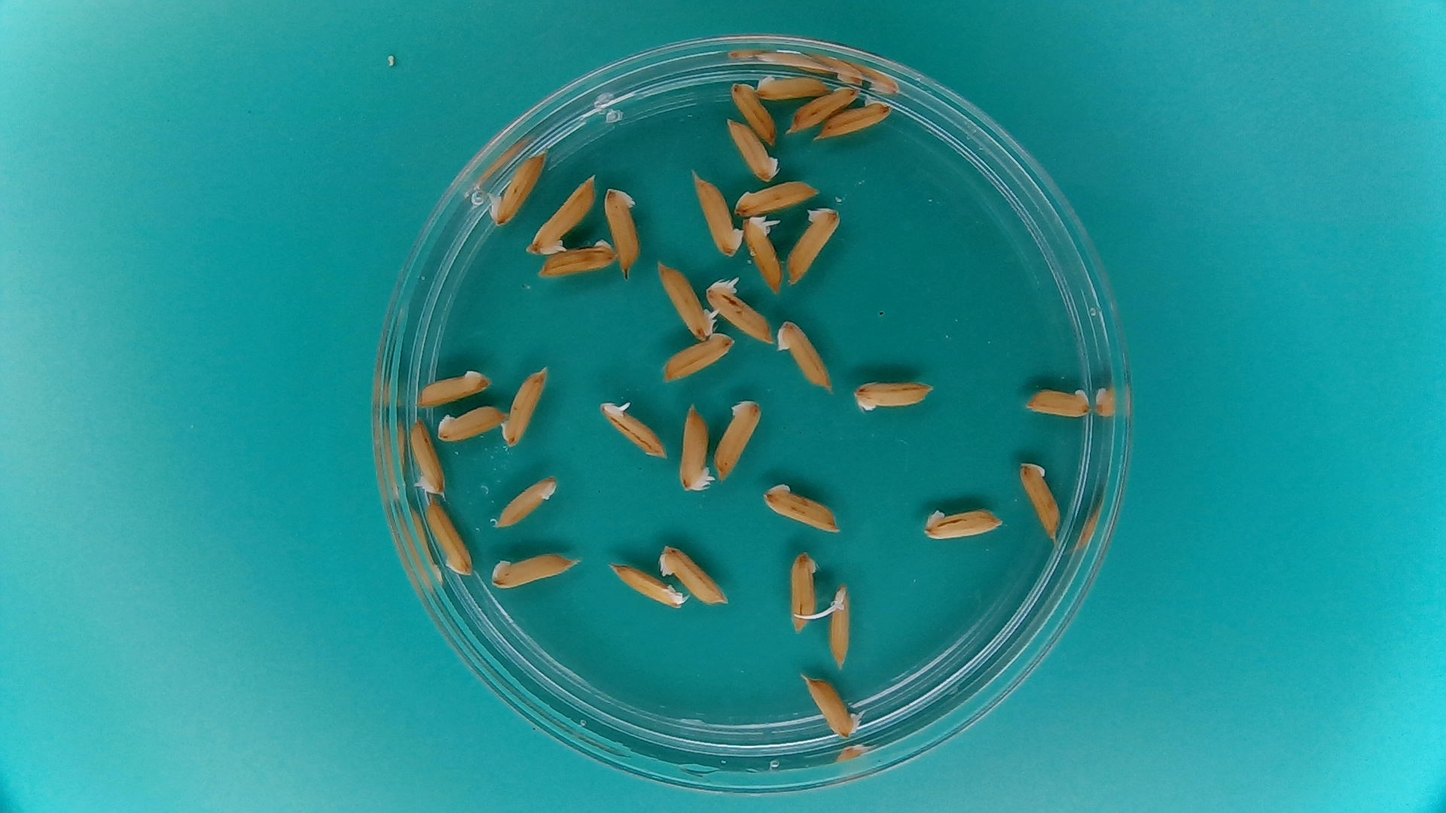no: (655, 540, 732, 607), (757, 477, 844, 536), (499, 360, 552, 452), (420, 494, 476, 580), (713, 394, 765, 485), (604, 559, 690, 613), (488, 472, 562, 532), (487, 547, 584, 592), (789, 202, 844, 279), (724, 113, 783, 184), (776, 315, 831, 391), (602, 182, 645, 278), (1016, 457, 1063, 543), (674, 399, 715, 497), (535, 236, 619, 282), (695, 178, 741, 259), (407, 413, 449, 501), (813, 95, 895, 140), (659, 336, 737, 383), (919, 503, 1007, 544), (414, 364, 495, 407), (850, 376, 938, 415), (731, 181, 822, 218), (784, 547, 822, 635), (728, 79, 777, 146), (789, 85, 859, 131), (431, 403, 508, 443), (1023, 382, 1094, 420), (752, 69, 832, 102)
yes: (523, 178, 596, 258), (706, 273, 776, 346), (657, 263, 718, 343), (602, 399, 673, 463), (488, 150, 542, 227), (742, 211, 788, 295), (804, 674, 861, 738), (822, 582, 853, 672)
